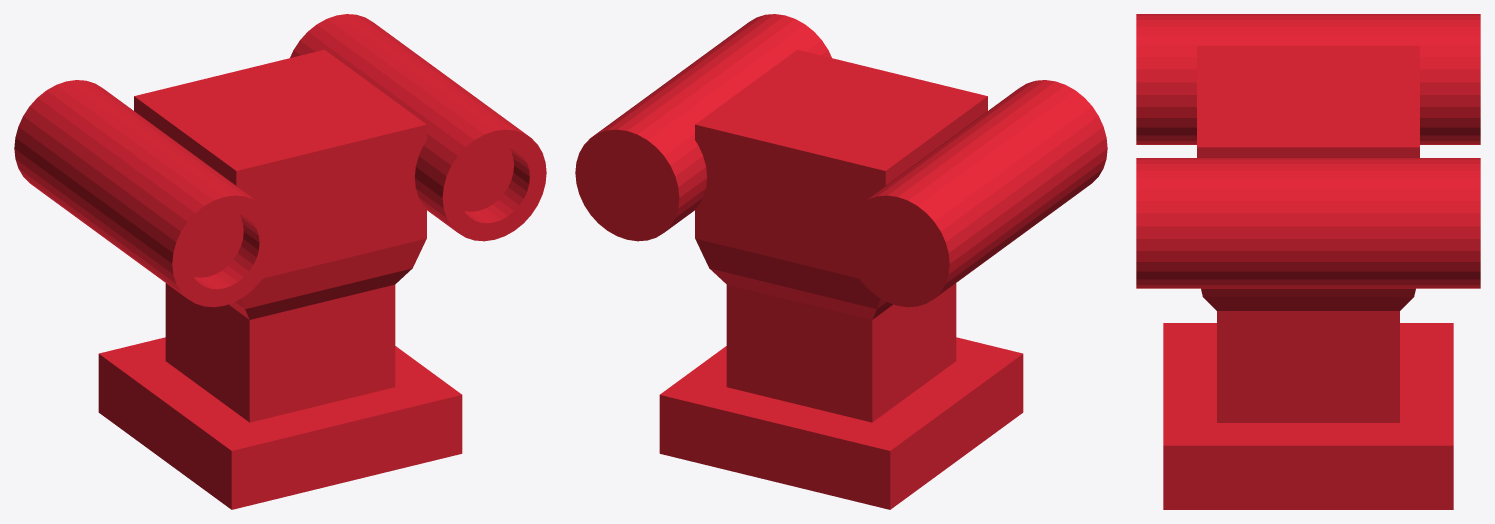
Rendered from turretModel.fbx.
3 renders of one model, left to right at view 1: azimuth 30°, elevation 25°; view 2: azimuth 150°, elevation 25°; view 3: azimuth 270°, elevation 25°, orthographic. The views are drawn at different scales.
Parts seen in each view (by area): view 1: turret; view 2: turret; view 3: turret.
Boxes of the visible parts, box(x1,y1,x2,y2) form: turret: box(14, 14, 546, 509); turret: box(575, 14, 1107, 509); turret: box(1136, 14, 1480, 509).
Bounding box in the file's own units: 86.24 × 71.98 × 63.03.
